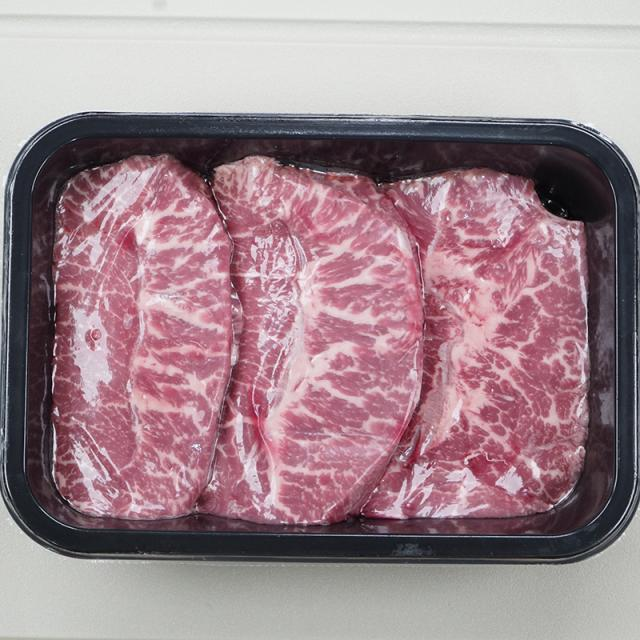beef: (68, 159, 233, 509), (415, 187, 590, 509), (244, 180, 414, 505)
